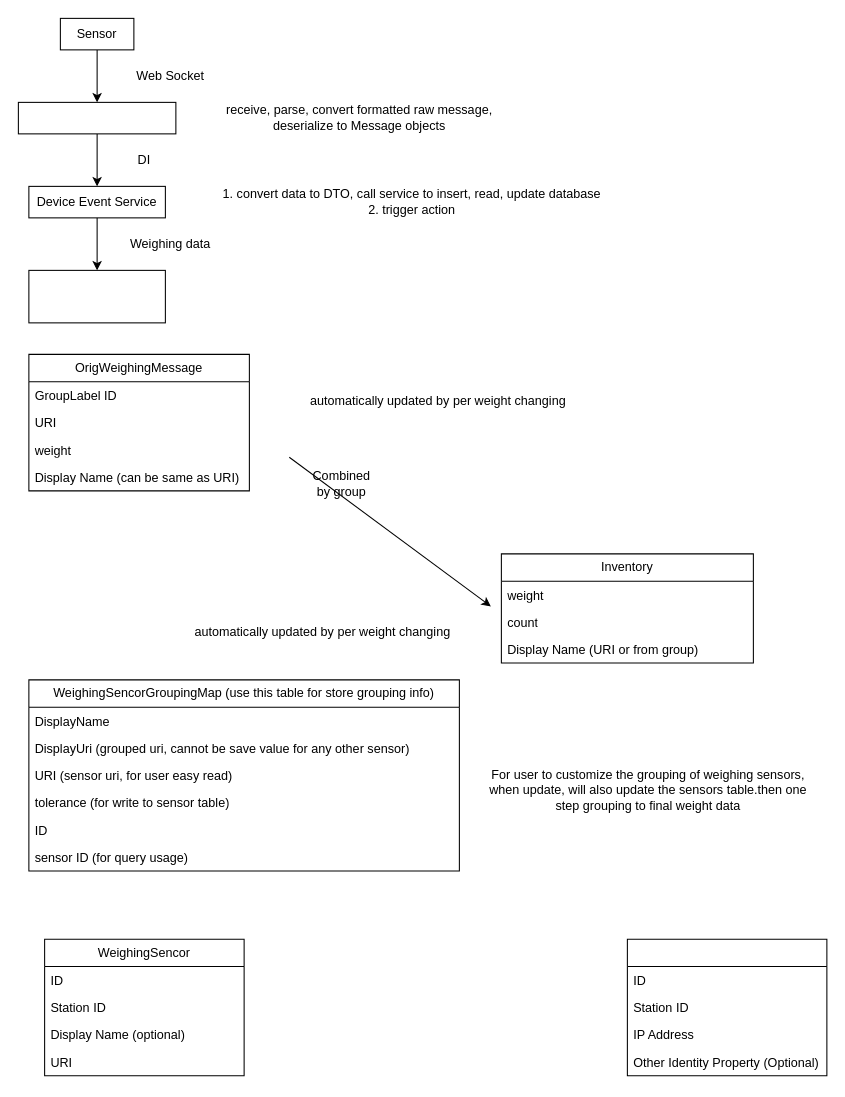
This 845x1097 diagram has some shape labels left out. Here are the shapes that lost their labels. From the top down, the box of each, then its label:
(17, 101, 176, 134): Weighing Message Serice
(28, 269, 165, 323): insert/update new inventories and stock changes to database
(626, 938, 827, 1076): Station (tablet)
